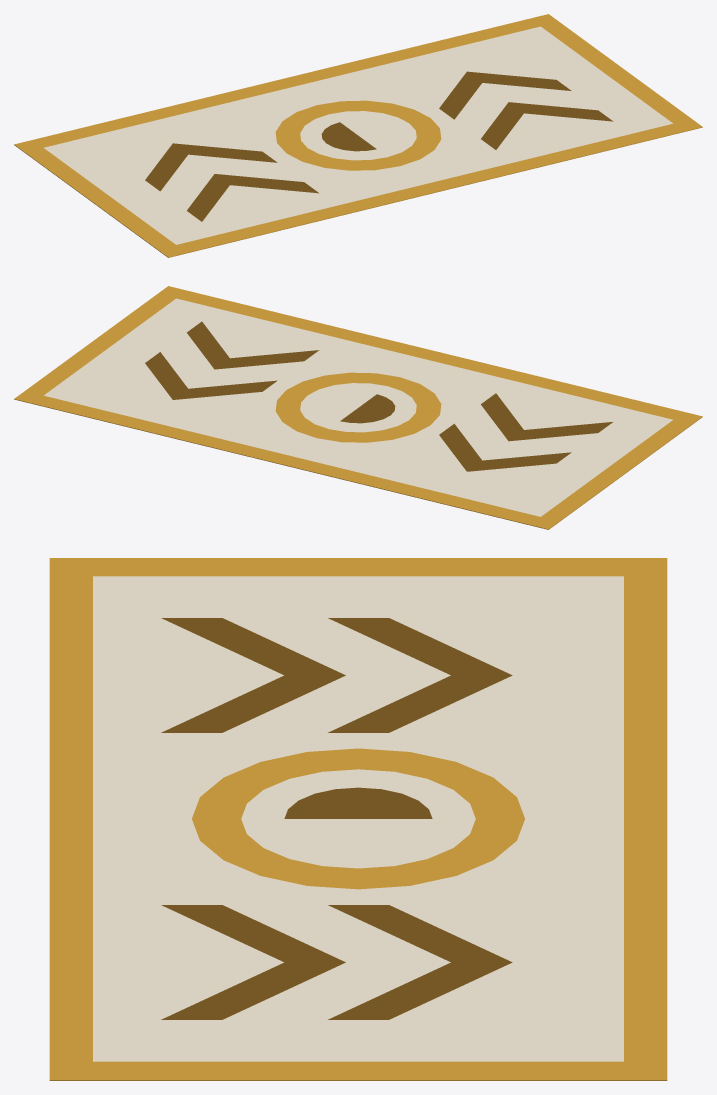
File: threshold_inlay.glb
3 renders of one model, top to bottom at view 1: azimuth 30°, elevation 25°; view 2: azimuth 150°, elevation 25°; view 3: azimuth 270°, elevation 25°, orthographic. The views are drawn at different scales.
Parts seen in each view (by area): view 1: threshold_inlay_inlay; view 2: threshold_inlay_inlay; view 3: threshold_inlay_inlay.
Boxes of the visible parts, x1=… form: threshold_inlay_inlay: x1=14, y1=14, x2=702, y2=257; threshold_inlay_inlay: x1=14, y1=286, x2=702, y2=529; threshold_inlay_inlay: x1=49, y1=558, x2=667, y2=1080.
Bounding box in the file's own units: 2 × 0.002 × 1.
